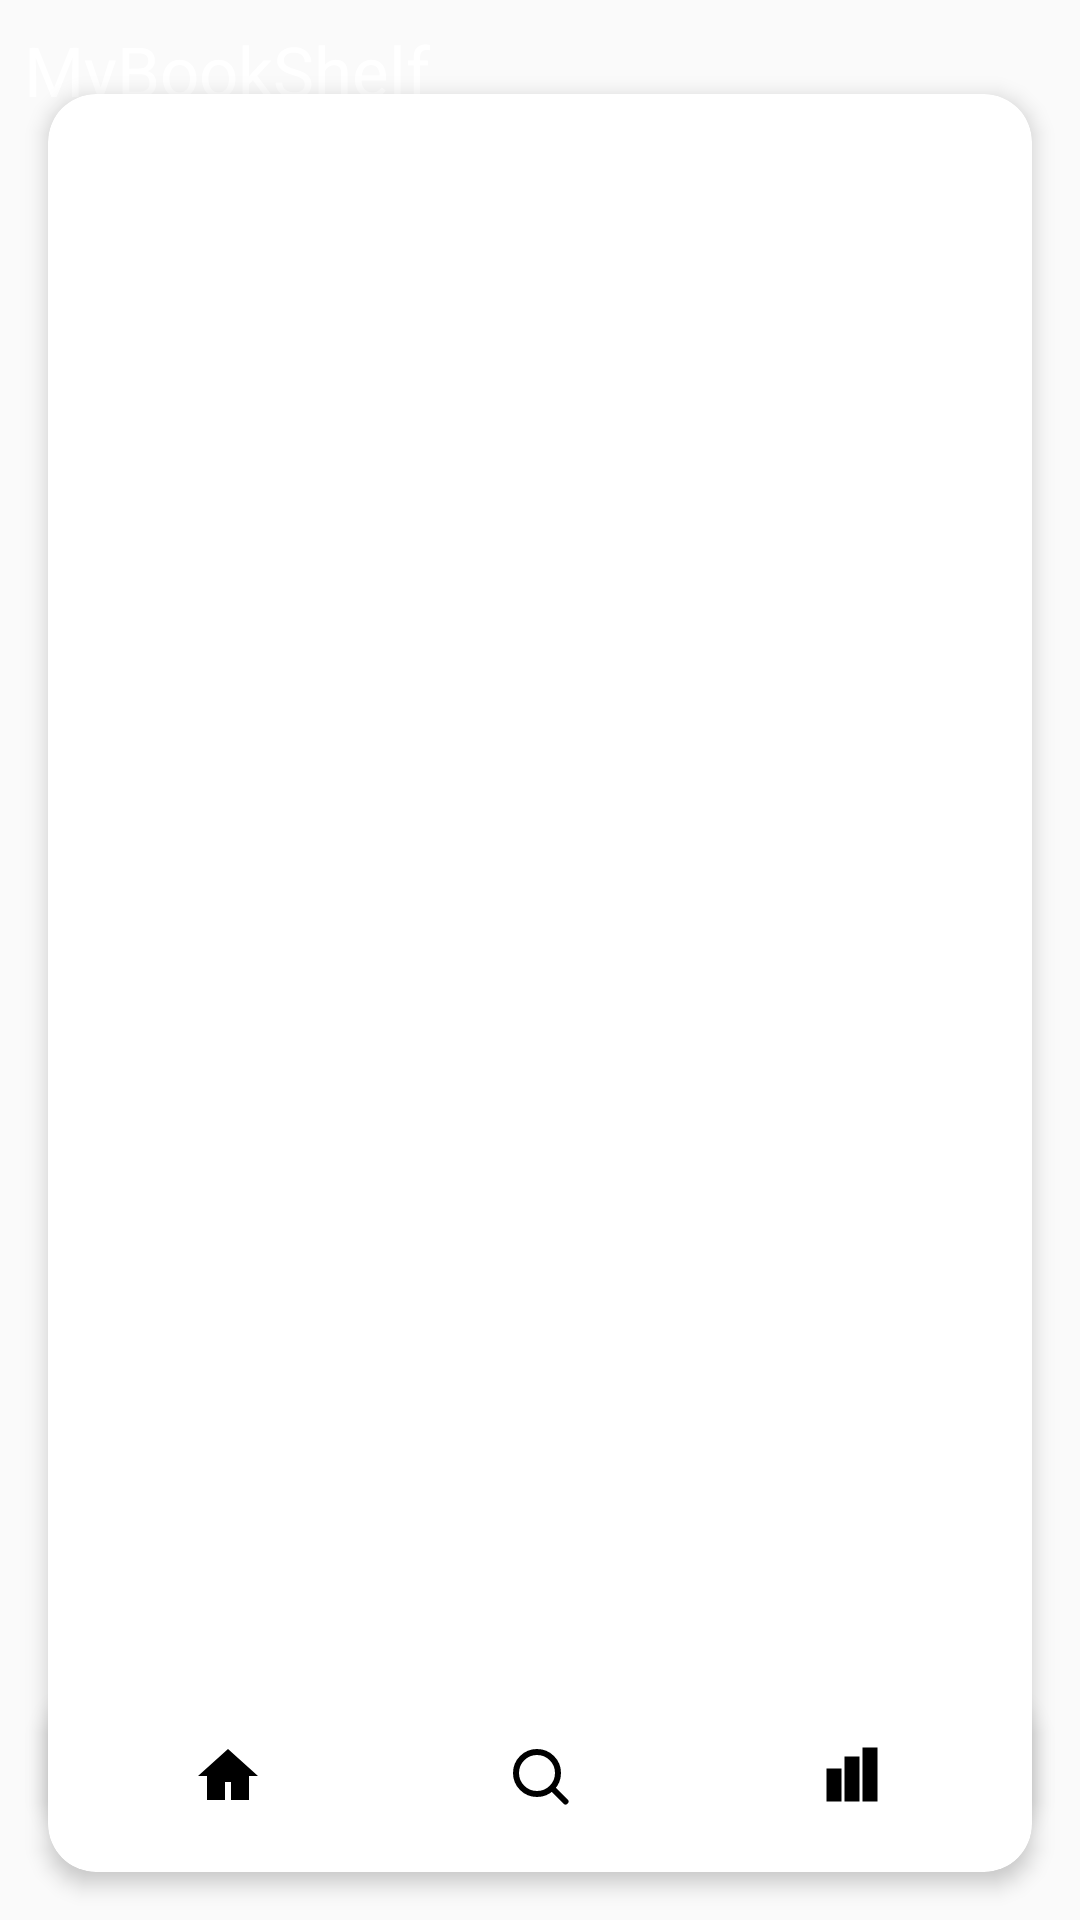

Where to tap for icons on this 1080px x 1920px app screen, as point (x, y):
Home: point (228, 1774)
Search: point (541, 1777)
Stats: point (852, 1774)
